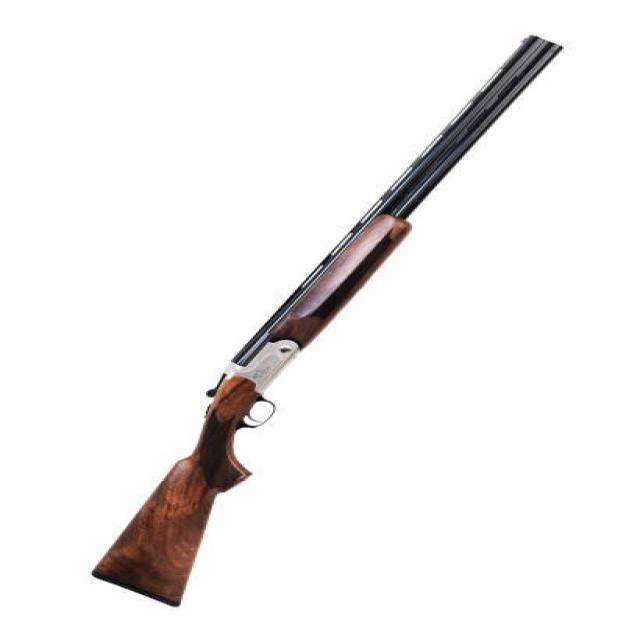rifle: (88, 23, 580, 620)
